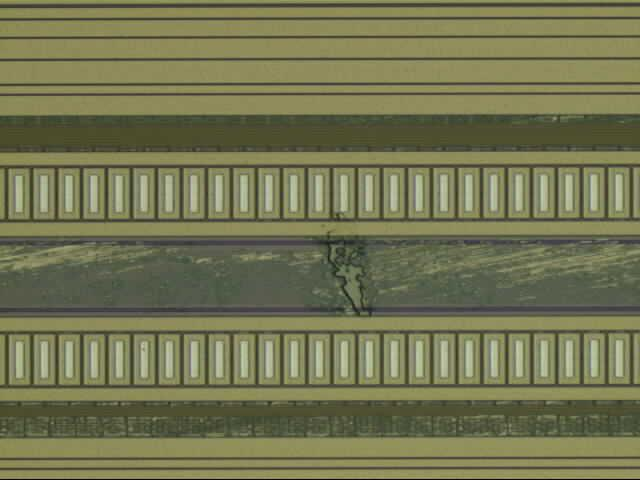SCRATCH: (1, 237, 640, 316)
